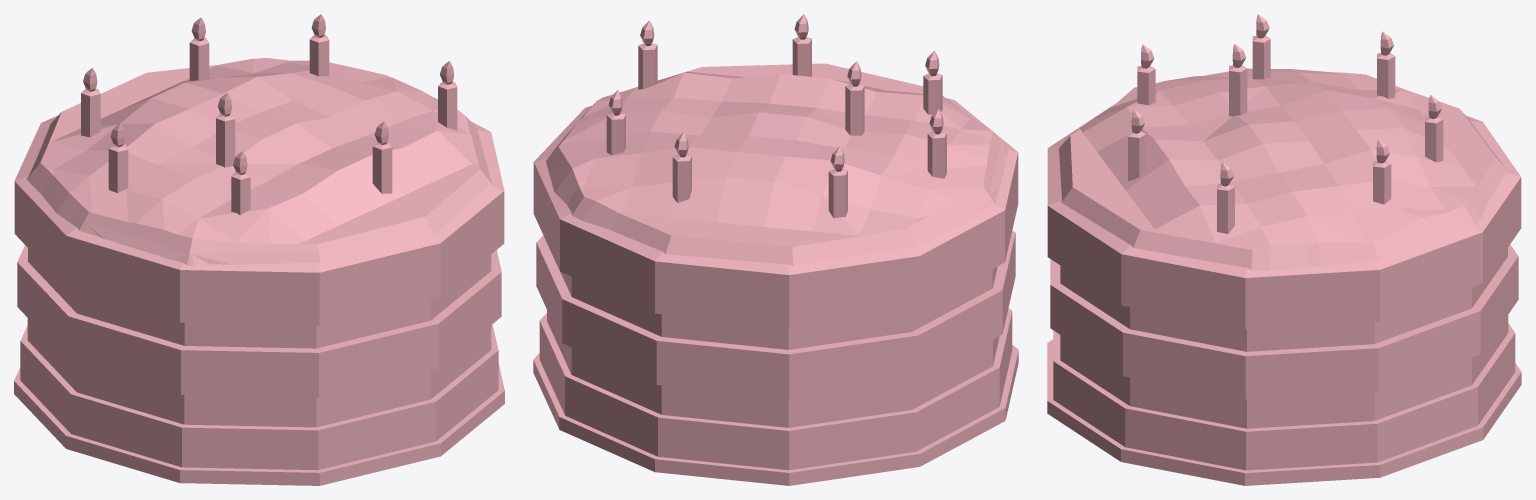
Rendered from q-cake.glb.
The picture shows the model from 3 angles, left to right: view 1: azimuth 30°, elevation 25°; view 2: azimuth 150°, elevation 25°; view 3: azimuth 270°, elevation 25°; orthographic projection. The views are drawn at different scales.
Visible parts, largest first — view 1: Cake; view 2: Cake; view 3: Cake.
Part boxes in pixels (box(x1,y1,x2,y2)): Cake: box(14, 14, 504, 485); Cake: box(533, 14, 1018, 485); Cake: box(1047, 14, 1521, 485).
Bounding box in the file's own units: 1.98 × 1.43 × 1.96.
